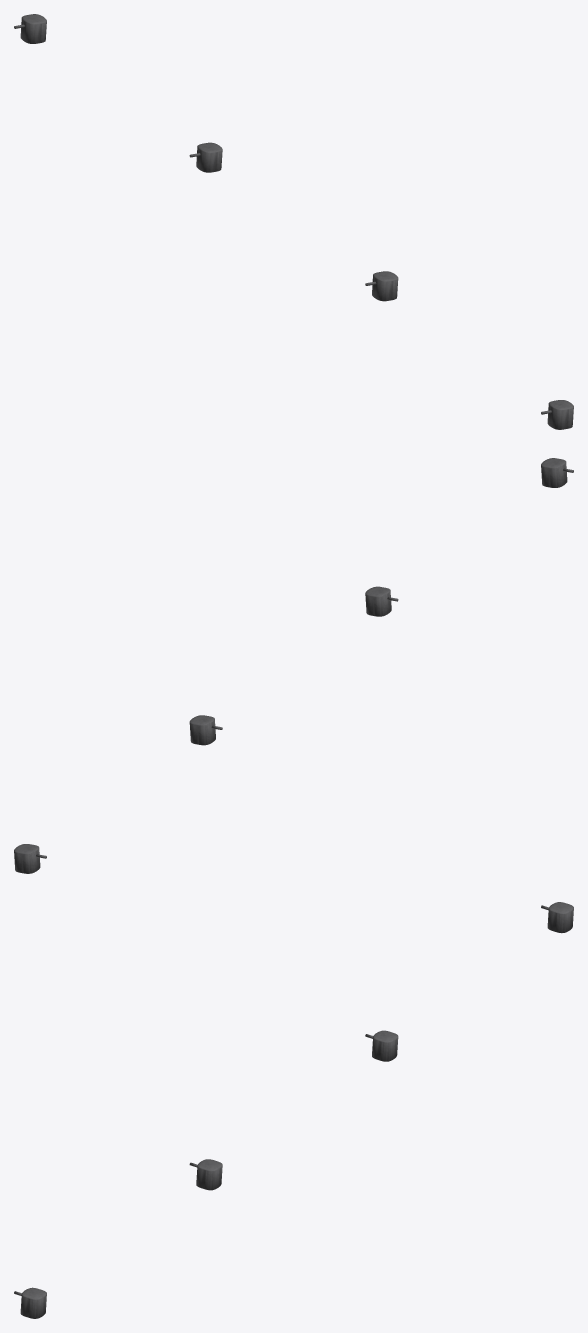
File: skatepark.fbx_lamps_side1.fbx
3 renders of one model, top to bottom at view 1: azimuth 30°, elevation 25°; view 2: azimuth 150°, elevation 25°; view 3: azimuth 330°, elevation 25°, orthographic.
Visible parts, largest first — view 1: Lamp_Side; view 2: Lamp_Side; view 3: Lamp_Side.
Part boxes in pixels (left/top/right/bottom): Lamp_Side: left=14, top=14, right=573, bottom=429; Lamp_Side: left=14, top=458, right=573, bottom=873; Lamp_Side: left=14, top=902, right=573, bottom=1318.
Size of the model in its own units: 60.93 by 43.4 by 1916.
Materials: 1 (1 with a texture image).
